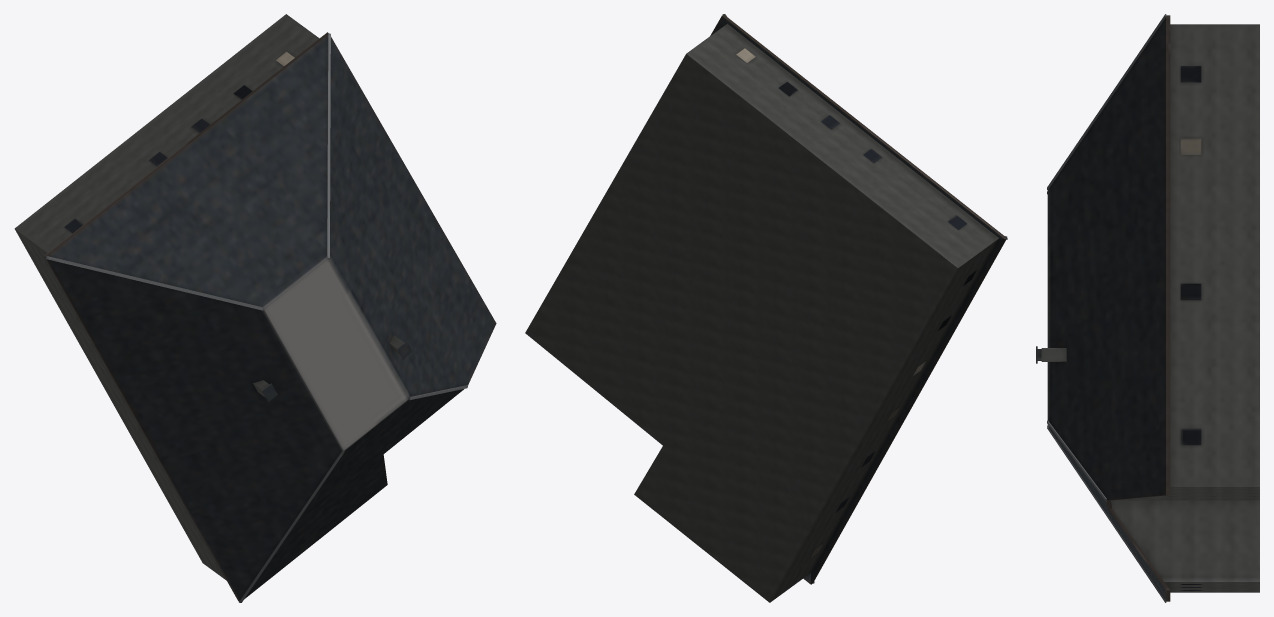
Rendered from house_b0050.obj.
The picture shows the model from 3 angles, left to right: view 1: azimuth 30°, elevation 25°; view 2: azimuth 150°, elevation 25°; view 3: azimuth 270°, elevation 25°; orthographic projection. The views are drawn at different scales.
Visible parts, largest first — view 1: house_b0050; view 2: house_b0050; view 3: house_b0050.
Part boxes in pixels (x1,y1,x2,y2): house_b0050: (14, 14, 496, 602); house_b0050: (525, 14, 1007, 602); house_b0050: (1036, 14, 1259, 602).
Size of the model in its own units: 33.28 by 38.66 by 12.29.
Materials: 1 (1 with a texture image).
